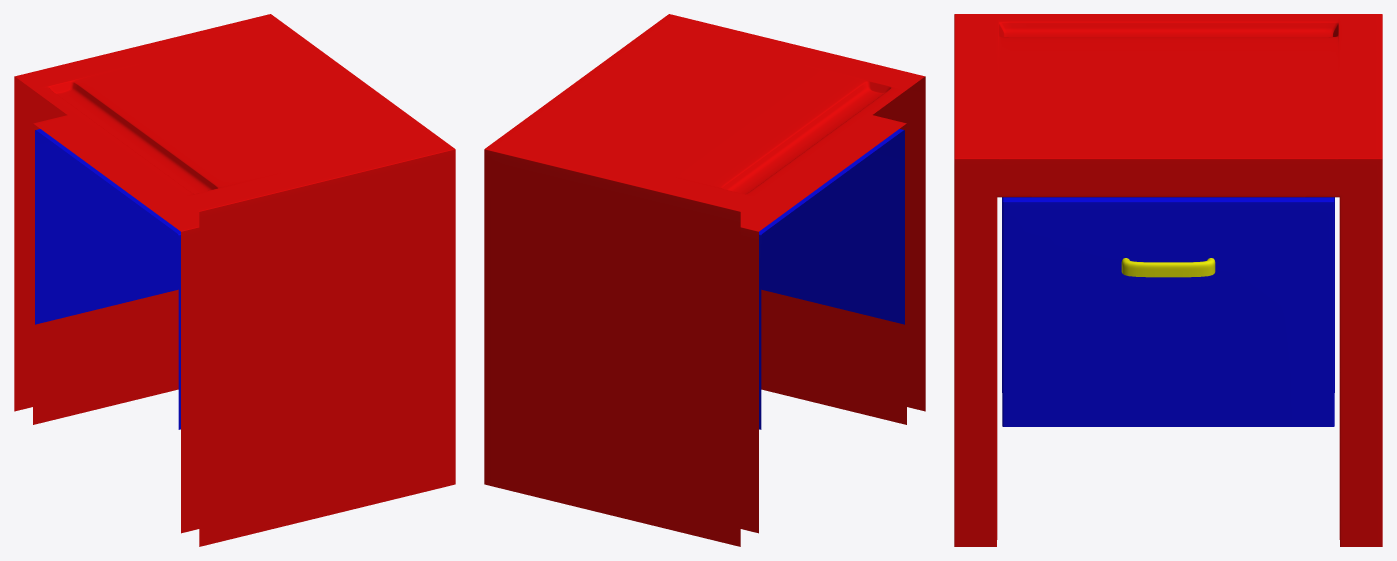
Rendered from Küchentheke_2_gerade_high.fbx.
The picture shows the model from 3 angles, left to right: view 1: azimuth 30°, elevation 25°; view 2: azimuth 150°, elevation 25°; view 3: azimuth 270°, elevation 25°; orthographic projection. The views are drawn at different scales.
Visible parts, largest first — view 1: Küchentheke_2_gerade_high; view 2: Küchentheke_2_gerade_high; view 3: Küchentheke_2_gerade_high.
Boxes of the visible parts, bbox=[...] form: Küchentheke_2_gerade_high: bbox=[14, 14, 455, 546]; Küchentheke_2_gerade_high: bbox=[484, 14, 925, 546]; Küchentheke_2_gerade_high: bbox=[954, 14, 1382, 546].
Bounding box in the file's own units: 0.8236 × 1 × 1.
